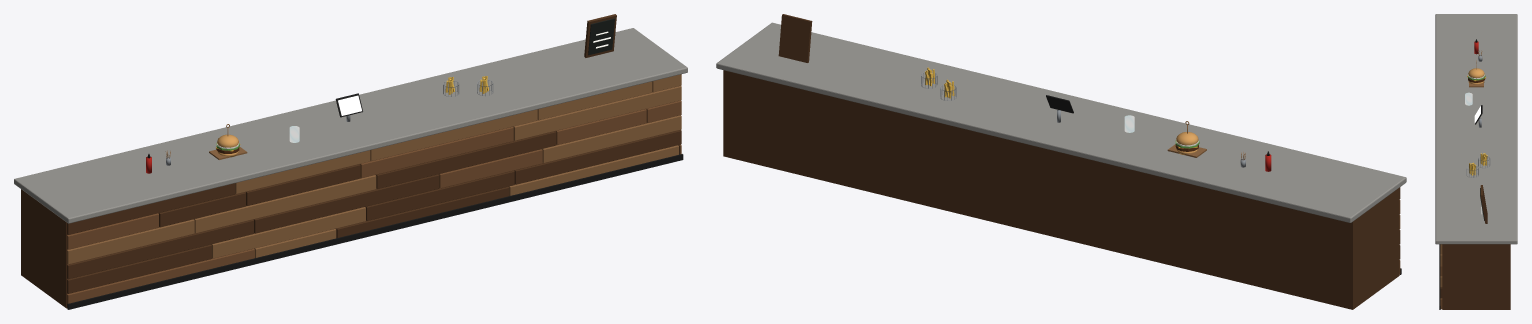
Rendered from counter.glb.
The picture shows the model from 3 angles, left to right: view 1: azimuth 30°, elevation 25°; view 2: azimuth 150°, elevation 25°; view 3: azimuth 270°, elevation 25°; orthographic projection. The views are drawn at different scales.
Parts seen in each view (by area): view 1: top, kick, body, plank.009, plank.010, plank.014, plank.015, plank.022, plank.008, plank.006, plank.021, plank.007 (+18 smaller); view 2: body, top, hh_frame; view 3: top, body, hh_frame, bun_top, kick, tip_jar, fry_basket, fry_basket.001.
Boxes of the visible parts, box(x1,y1,x2,y2) form: top: box(14, 28, 687, 223); kick: box(67, 154, 683, 309); body: box(21, 92, 678, 308); plank.009: box(67, 219, 253, 279); plank.010: box(254, 174, 439, 233); plank.014: box(194, 175, 376, 233); plank.015: box(376, 131, 556, 188); plank.022: box(513, 86, 681, 140); plank.008: box(514, 130, 681, 184); plank.006: box(211, 207, 365, 258); plank.021: box(360, 127, 513, 177); plank.007: box(365, 170, 514, 220); body: box(723, 70, 1399, 309); top: box(716, 22, 1406, 222); hh_frame: box(778, 14, 812, 62); top: box(1435, 14, 1517, 244); body: box(1442, 244, 1510, 309); hh_frame: box(1480, 185, 1487, 223); bun_top: box(1468, 68, 1484, 78); kick: box(1439, 244, 1440, 309); tip_jar: box(1465, 92, 1472, 105); fry_basket: box(1478, 156, 1490, 168); fry_basket.001: box(1466, 166, 1478, 177).
Bounding box in the file's own units: 7.06 × 1.46 × 1.08.
